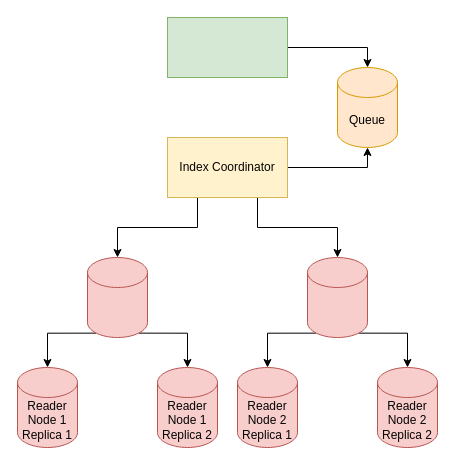
Some shapes in this 455 by 465 pixel diagram are drawn without their labels. Here are the shapes that lost their labels. From the top down, the box of each, then its label:
(166, 16, 288, 78): Writer API
(86, 256, 148, 338): Writer Index Node 1
(306, 256, 368, 338): Writer Index Node 2
